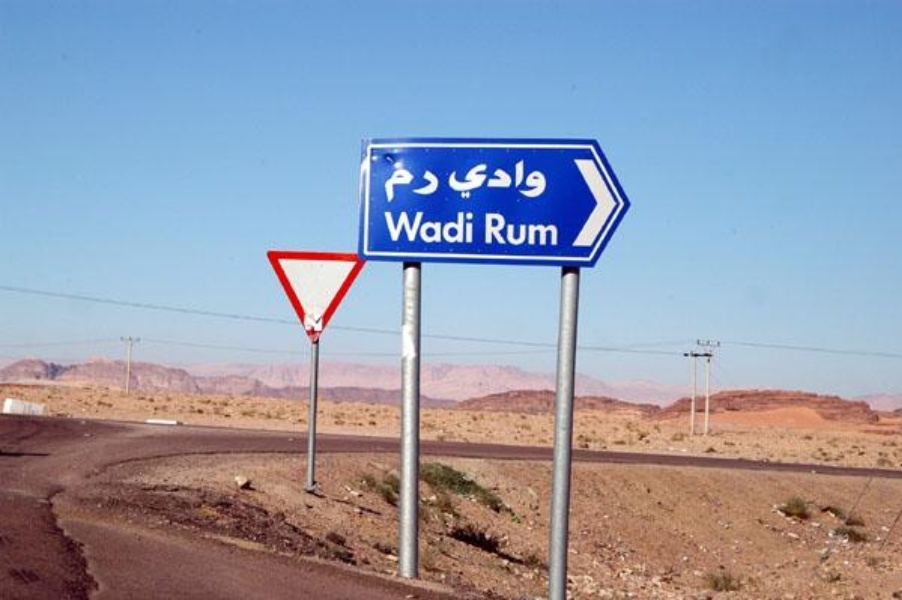text: (449, 158, 464, 199), (465, 158, 480, 199), (481, 158, 496, 199), (497, 158, 512, 199), (513, 158, 528, 199), (529, 158, 544, 199), (385, 166, 400, 204), (401, 166, 416, 204), (417, 166, 432, 204), (385, 210, 400, 246), (401, 210, 416, 246), (417, 210, 432, 246), (433, 210, 448, 246), (449, 210, 464, 246), (497, 213, 512, 247), (513, 213, 528, 247), (529, 213, 544, 247), (545, 213, 560, 247), (465, 210, 476, 246), (485, 213, 496, 247), (433, 166, 441, 204), (379, 166, 384, 204), (445, 158, 448, 199), (545, 158, 548, 199)
